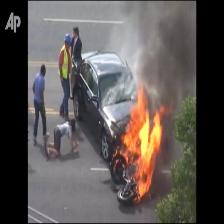fire: (116, 81, 168, 202)
